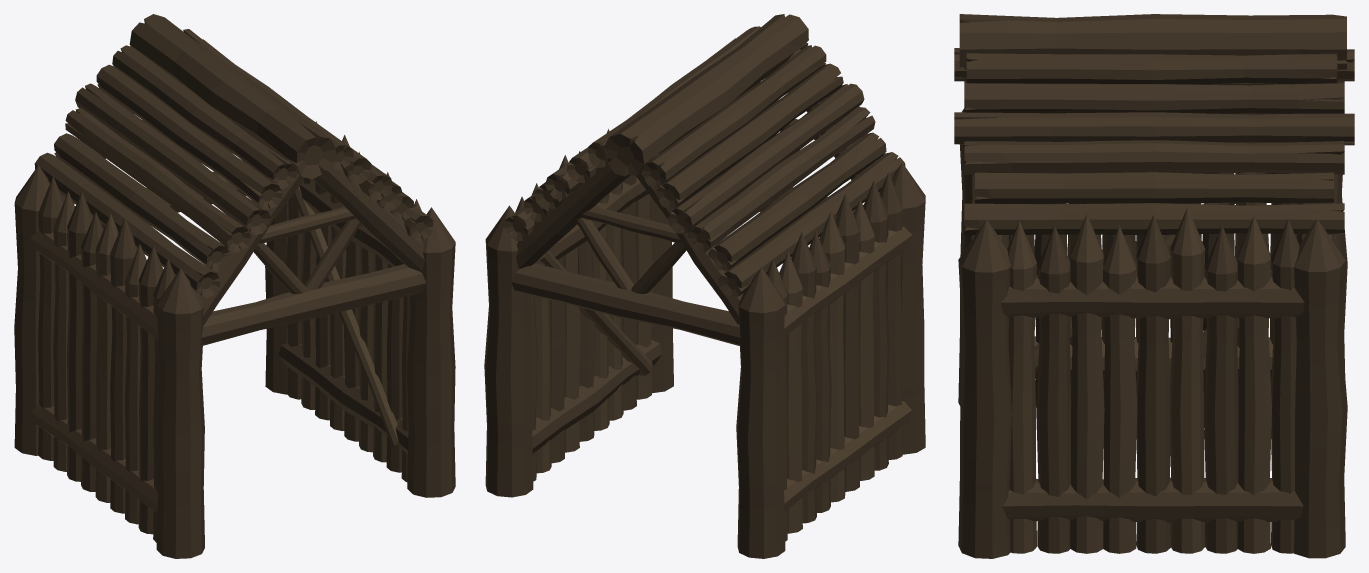
The model's file is Entrance.fbx.
3 views of the same model, side by side, from view 1: azimuth 30°, elevation 25°; view 2: azimuth 150°, elevation 25°; view 3: azimuth 270°, elevation 25° (orthographic). The views are drawn at different scales.
Visible parts, largest first — view 1: Corner_Piece3, Corner_Piece4, pCylinder28, Corner_Piece6, Corner_Piece2, pCylinder36, pCylinder35, pCylinder37, pCylinder34, pCylinder38, pCylinder39, pCylinder17 (+32 smaller); view 2: Corner_Piece2, Corner_Piece1, pCylinder28, Corner_Piece5, Corner_Piece3, pCylinder36, pCylinder35, pCylinder37, pCylinder34, pCylinder38, pCylinder39, pCylinder15 (+32 smaller); view 3: Corner_Piece4, Corner_Piece1, pCylinder28, pCylinder48, pCylinder52, pCylinder47, pCylinder51, pCylinder50, pCylinder49, pCylinder40, pCylinder55, pCylinder42 (+16 smaller).
Part boxes in pixels (x1,y1,x2,y2): Corner_Piece3: (156, 268, 204, 558); Corner_Piece4: (407, 207, 455, 497); pCylinder28: (129, 14, 335, 179); Corner_Piece6: (201, 264, 425, 345); Corner_Piece2: (14, 165, 49, 455); pCylinder36: (75, 83, 270, 235); pCylinder35: (96, 64, 281, 208); pCylinder37: (65, 108, 251, 252); pCylinder34: (112, 45, 296, 188); pCylinder38: (54, 133, 229, 271); pCylinder39: (34, 152, 219, 297); pCylinder17: (110, 217, 137, 513); Corner_Piece2: (736, 267, 785, 558); Corner_Piece1: (484, 205, 533, 497); pCylinder28: (603, 14, 808, 176); Corner_Piece5: (510, 263, 740, 345); Corner_Piece3: (892, 163, 925, 454); pCylinder36: (667, 83, 864, 233); pCylinder35: (656, 63, 843, 209); pCylinder37: (687, 107, 875, 252); pCylinder34: (642, 45, 826, 187); pCylinder38: (708, 132, 886, 270); pCylinder39: (718, 152, 905, 296); pCylinder15: (791, 232, 817, 523); Corner_Piece4: (958, 219, 1011, 558); Corner_Piece1: (1294, 218, 1347, 558); pCylinder28: (959, 14, 1346, 69); pCylinder48: (964, 140, 1344, 174); pCylinder52: (954, 112, 1354, 145); pCylinder47: (964, 83, 1344, 113); pCylinder51: (966, 53, 1337, 84); pCylinder50: (975, 172, 1333, 203); pCylinder49: (964, 203, 1344, 235); pCylinder40: (1170, 207, 1205, 553); pCylinder55: (1070, 214, 1104, 553); pCylinder42: (1001, 274, 1304, 318).
Size of the model in its own units: 54.81 by 69.94 by 55.49.
